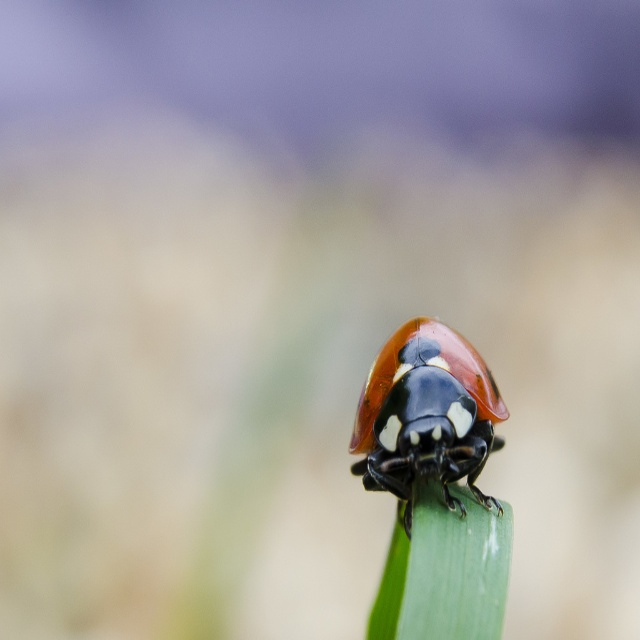Ladybug: (350, 324, 514, 545)
